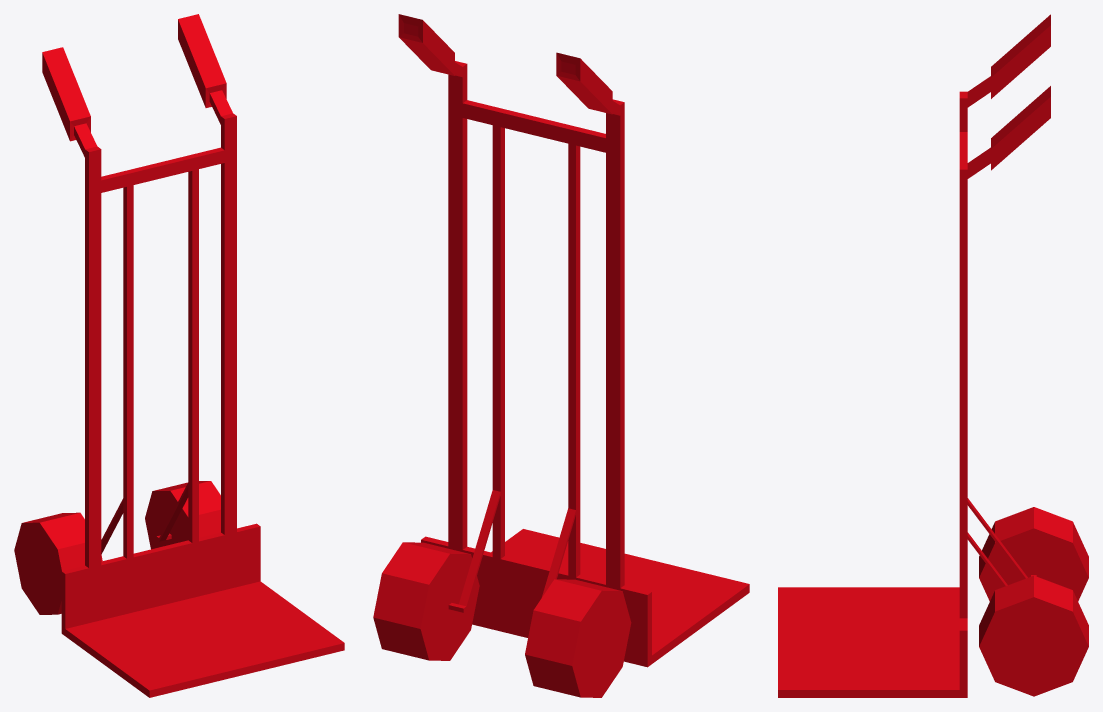
The model's file is Carretilla.fbx.
The picture shows the model from 3 angles, left to right: view 1: azimuth 30°, elevation 25°; view 2: azimuth 150°, elevation 25°; view 3: azimuth 270°, elevation 25°; orthographic projection. The views are drawn at different scales.
Visible parts, largest first — view 1: Carretilla; view 2: Carretilla; view 3: Carretilla.
Boxes of the visible parts, <box> form: Carretilla: <box>14,14,344,697</box>; Carretilla: <box>373,14,749,697</box>; Carretilla: <box>778,14,1088,697</box>.
Size of the model in its own units: 99.98 by 271 by 128.
